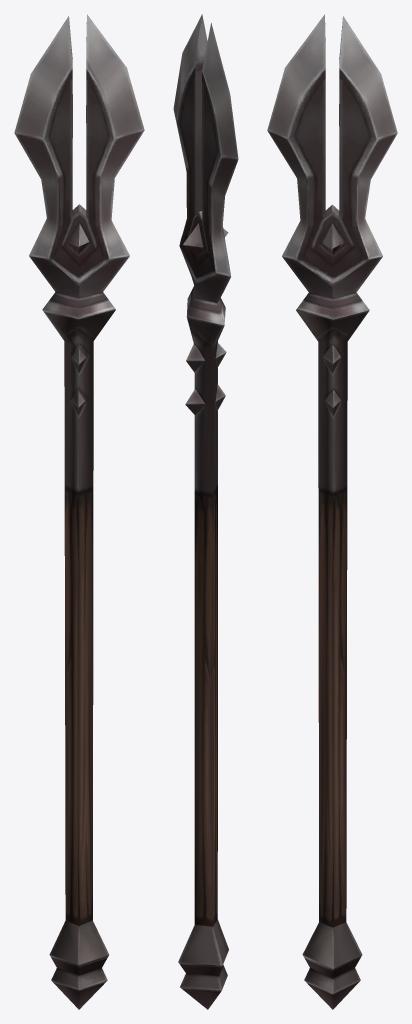
Rendered from polearm03_f06194c1.glb.
The picture shows the model from 3 angles, left to right: view 1: azimuth 90°, elevation 25°; view 2: azimuth 210°, elevation 25°; view 3: azimuth 270°, elevation 25°; orthographic projection.
Size of the model in its own units: 0.1845 by 3.43 by 0.4072.
1 material, 1 textured.
